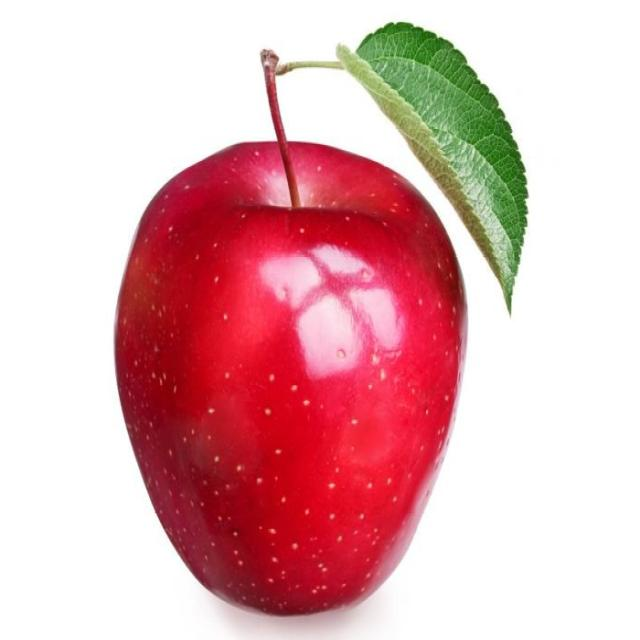Apel: (106, 140, 477, 626)
